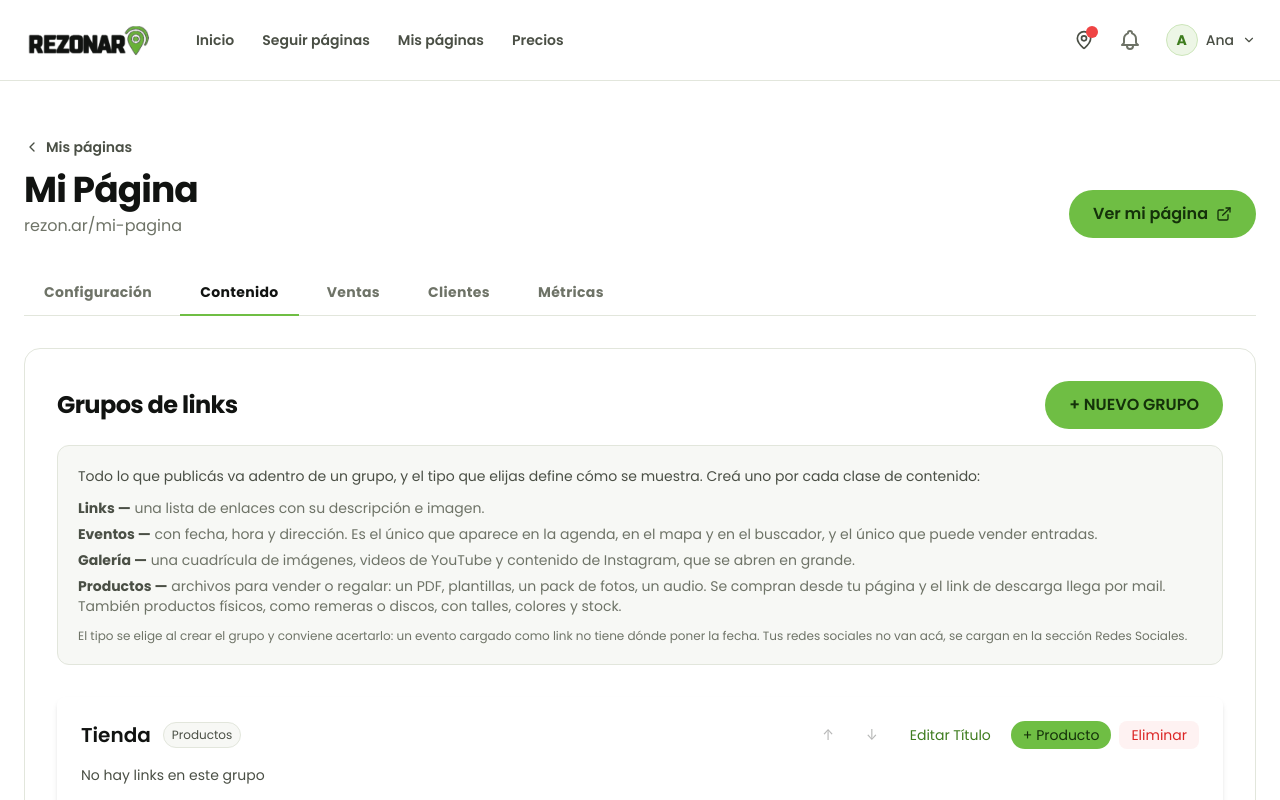
Test: PageEditor — productos digitales › alta de un producto › pide título, descripción, imagen, precio y archivo, y no URL
This screenshot has width=1280, height=800.
Expected: the heading "Grupos de links" is shown, [57,389,238,421]
Click the button "+ Producto" at (1061, 735), box [1011,721,1111,749]
(page scrolled)
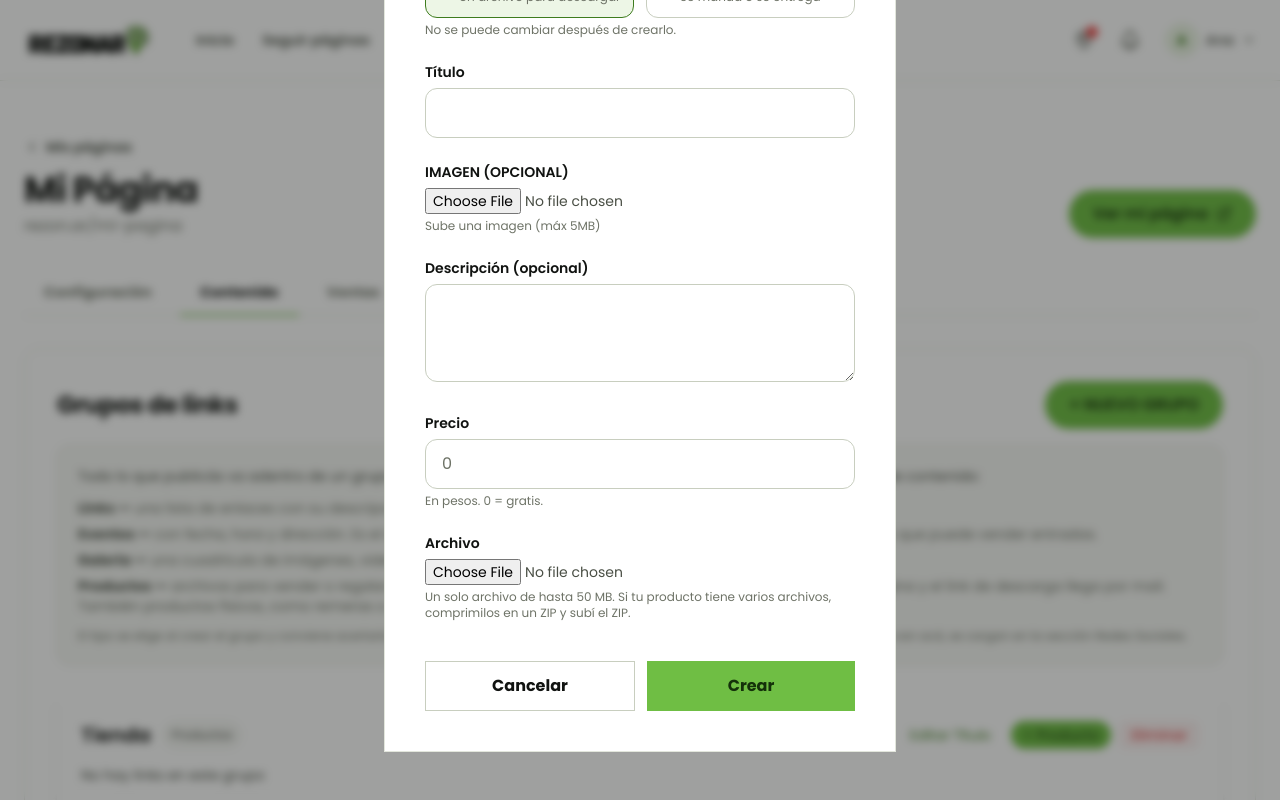
Expected: the text "Descripción (opcional)" is shown, [425,258,588,278]
Expected: the text "IMAGEN (OPCIONAL)" is shown, [425,162,569,182]
Expected: the number field labelled "Precio" is shown, [425,439,855,489]
